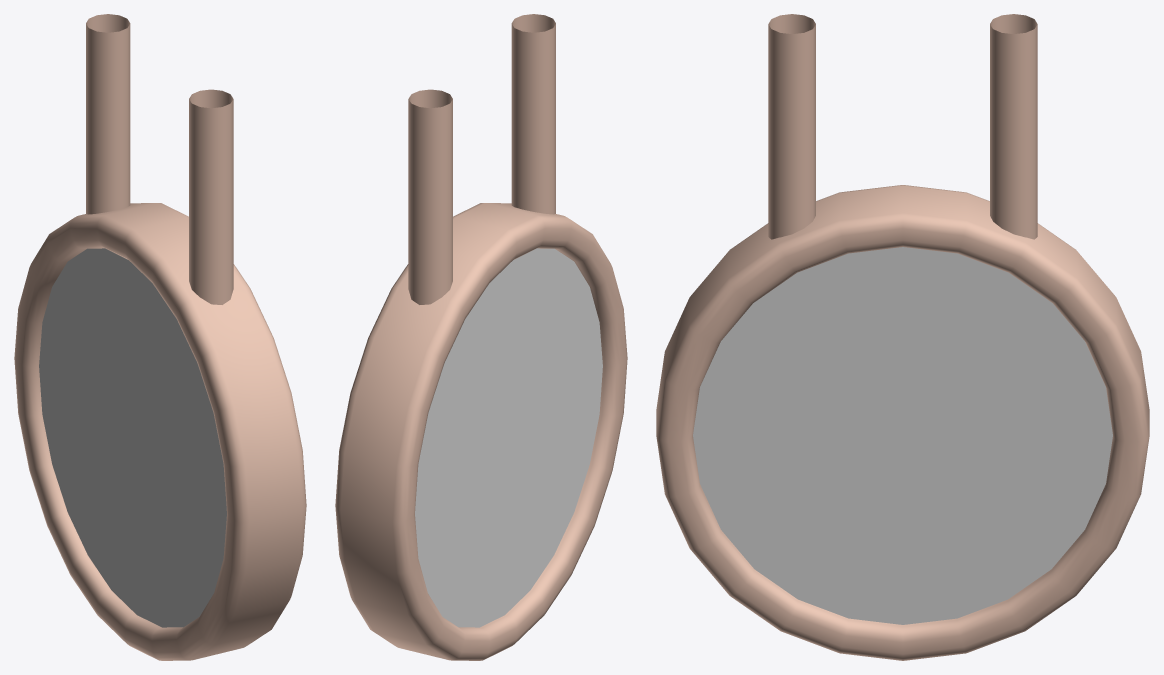
File: ShopSign.fbx
The picture shows the model from 3 angles, left to right: view 1: azimuth 30°, elevation 25°; view 2: azimuth 150°, elevation 25°; view 3: azimuth 270°, elevation 25°; orthographic projection. The views are drawn at different scales.
Parts seen in each view (by area): view 1: Line; view 2: Line; view 3: Line.
Part boxes in pixels (bbox=[...]): Line: bbox=[14, 14, 306, 660]; Line: bbox=[335, 14, 627, 660]; Line: bbox=[656, 14, 1149, 660].
Size of the model in its own units: 24.76 by 194 by 139.
